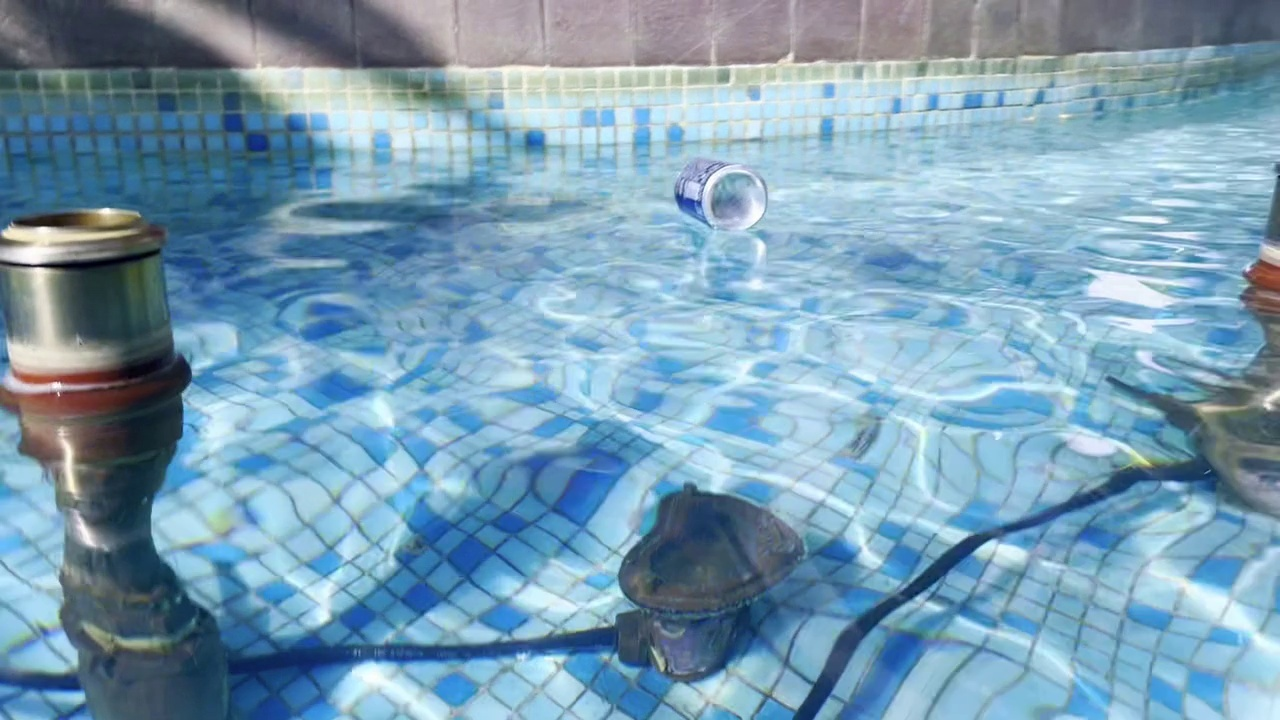debris: (660, 148, 771, 234)
